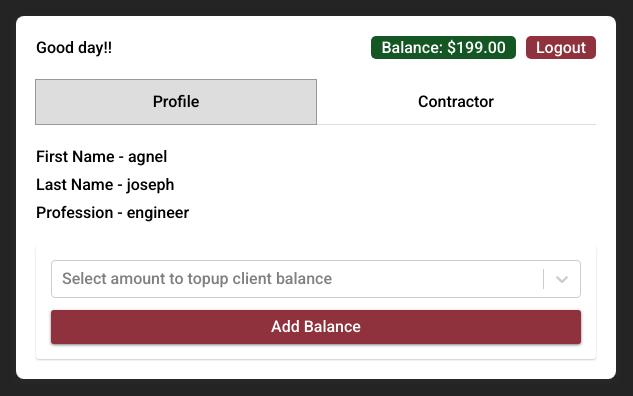
DashboardPage › should display work performed by contractors
Expected: the list is shown, [36,80,596,124]
Click the tab "Contractor" at {"x": 456, "y": 101}, box [418,92,494,110]
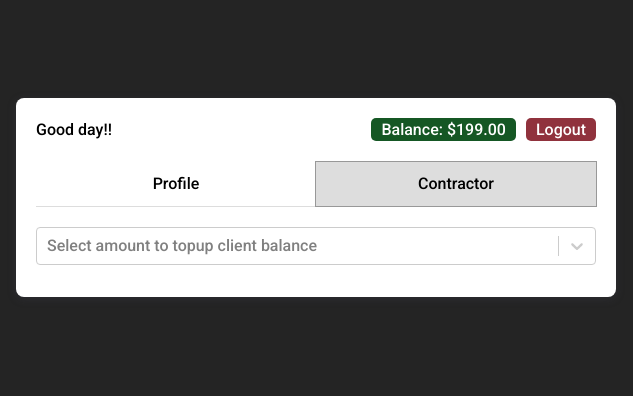
Click the element showing "Select amount to topup client balance" at {"x": 316, "y": 246}, box [36,226,596,264]
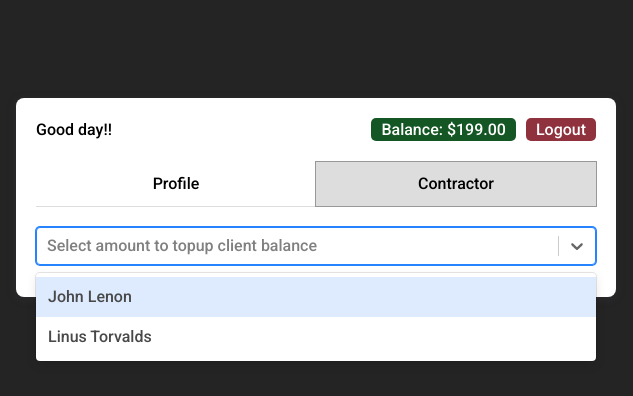
Click the option "John Lenon" at {"x": 90, "y": 296}, box [36,276,596,316]
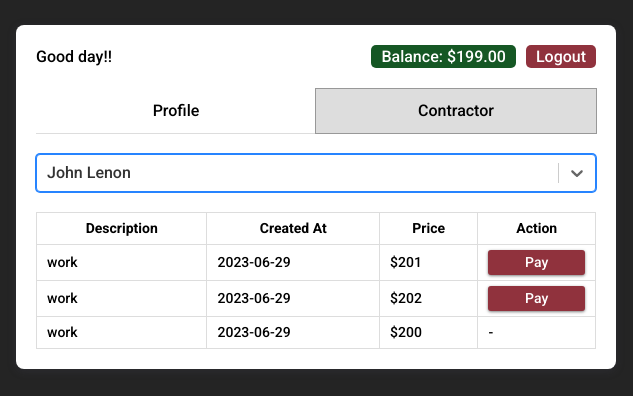
Expected: the table is shown, [36,212,596,349]
Expected: the number of buttons is 2, [488,250,585,275]; [488,286,585,311]
